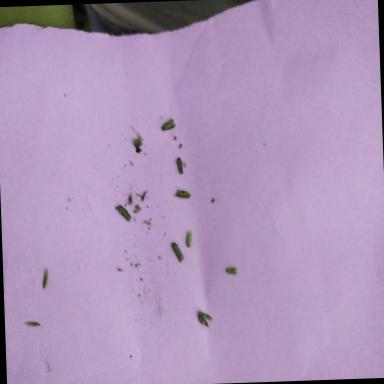pbw: (172, 184, 196, 198), (171, 241, 184, 262), (198, 310, 212, 328), (118, 204, 132, 222), (160, 118, 176, 132), (184, 228, 194, 246), (176, 156, 183, 176), (225, 266, 238, 274)
